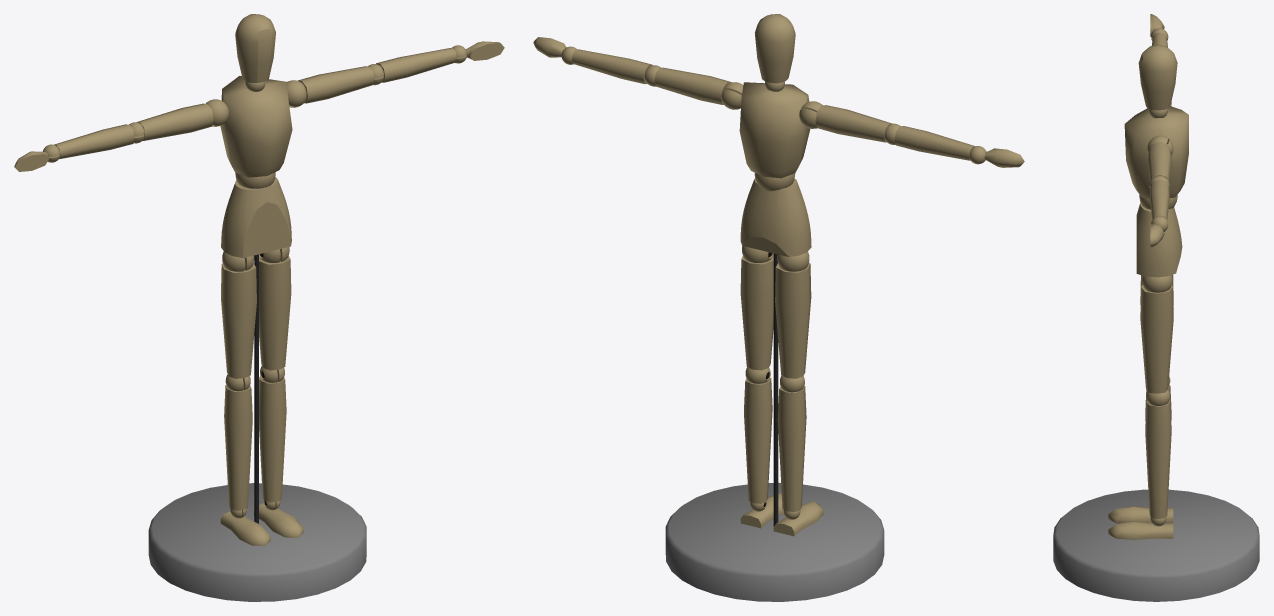
Rendered from mannequin.fbx.
3 renders of one model, left to right at view 1: azimuth 30°, elevation 25°; view 2: azimuth 150°, elevation 25°; view 3: azimuth 270°, elevation 25°, orthographic. The views are drawn at different scales.
Visible parts, largest first — view 1: mannikin_45, mannikin_02, mannikin_00, mannikin_43, mannikin_34, mannikin_38, mannikin_27, mannikin_04, mannikin_16, mannikin_06, mannikin_19, mannikin_10 (+3 smaller); view 2: mannikin_45, mannikin_02, mannikin_00, mannikin_43, mannikin_34, mannikin_27, mannikin_38, mannikin_04, mannikin_16, mannikin_06, mannikin_19, mannikin_10 (+3 smaller); view 3: mannikin_45, mannikin_02, mannikin_34, mannikin_27, mannikin_00, mannikin_04, mannikin_26, mannikin_06, mannikin_37, mannikin_10, mannikin_24, mannikin_33.
Boxes of the visible parts, bbox=[...] form: mannikin_45: bbox=[148, 483, 366, 601]; mannikin_02: bbox=[220, 76, 292, 177]; mannikin_00: bbox=[221, 177, 291, 257]; mannikin_43: bbox=[221, 263, 256, 378]; mannikin_34: bbox=[259, 256, 291, 370]; mannikin_38: bbox=[224, 385, 252, 510]; mannikin_27: bbox=[259, 376, 286, 502]; mannikin_04: bbox=[235, 14, 275, 82]; mannikin_16: bbox=[137, 103, 213, 140]; mannikin_06: bbox=[298, 66, 374, 103]; mannikin_19: bbox=[54, 124, 134, 159]; mannikin_10: bbox=[376, 48, 456, 82]; mannikin_45: bbox=[665, 482, 884, 601]; mannikin_02: bbox=[739, 82, 810, 178]; mannikin_00: bbox=[740, 178, 811, 257]; mannikin_43: bbox=[775, 263, 811, 378]; mannikin_34: bbox=[740, 254, 773, 370]; mannikin_27: bbox=[744, 377, 772, 503]; mannikin_38: bbox=[777, 386, 806, 511]; mannikin_04: bbox=[755, 14, 795, 83]; mannikin_16: bbox=[815, 105, 892, 142]; mannikin_06: bbox=[654, 67, 731, 104]; mannikin_19: bbox=[894, 126, 974, 160]; mannikin_10: bbox=[572, 49, 652, 84]; mannikin_45: bbox=[1053, 489, 1259, 601]; mannikin_02: bbox=[1124, 106, 1188, 198]; mannikin_34: bbox=[1140, 285, 1173, 393]; mannikin_27: bbox=[1145, 400, 1171, 518]; mannikin_00: bbox=[1136, 202, 1182, 277]; mannikin_04: bbox=[1138, 44, 1177, 110]; mannikin_26: bbox=[1108, 521, 1173, 539]; mannikin_06: bbox=[1147, 142, 1171, 181]; mannikin_37: bbox=[1108, 506, 1173, 523]; mannikin_10: bbox=[1149, 179, 1169, 219]; mannikin_24: bbox=[1142, 275, 1172, 292]; mannikin_33: bbox=[1146, 390, 1170, 405].
Size of the model in its own units: 29130 by 30672 by 11235.
